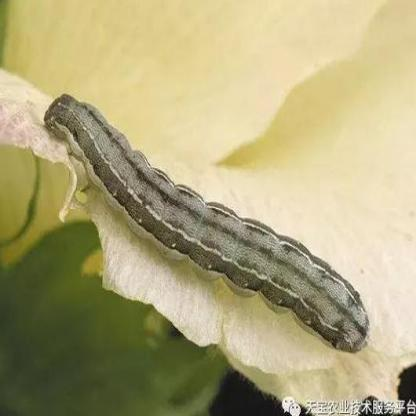armyworm: (36, 69, 381, 365)
